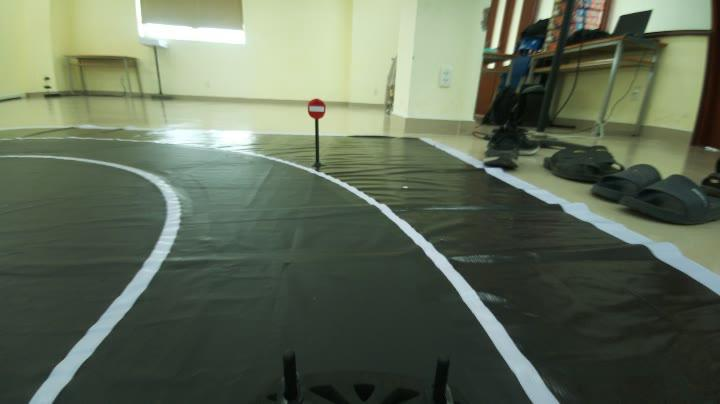no_entry: (294, 93, 346, 130)
